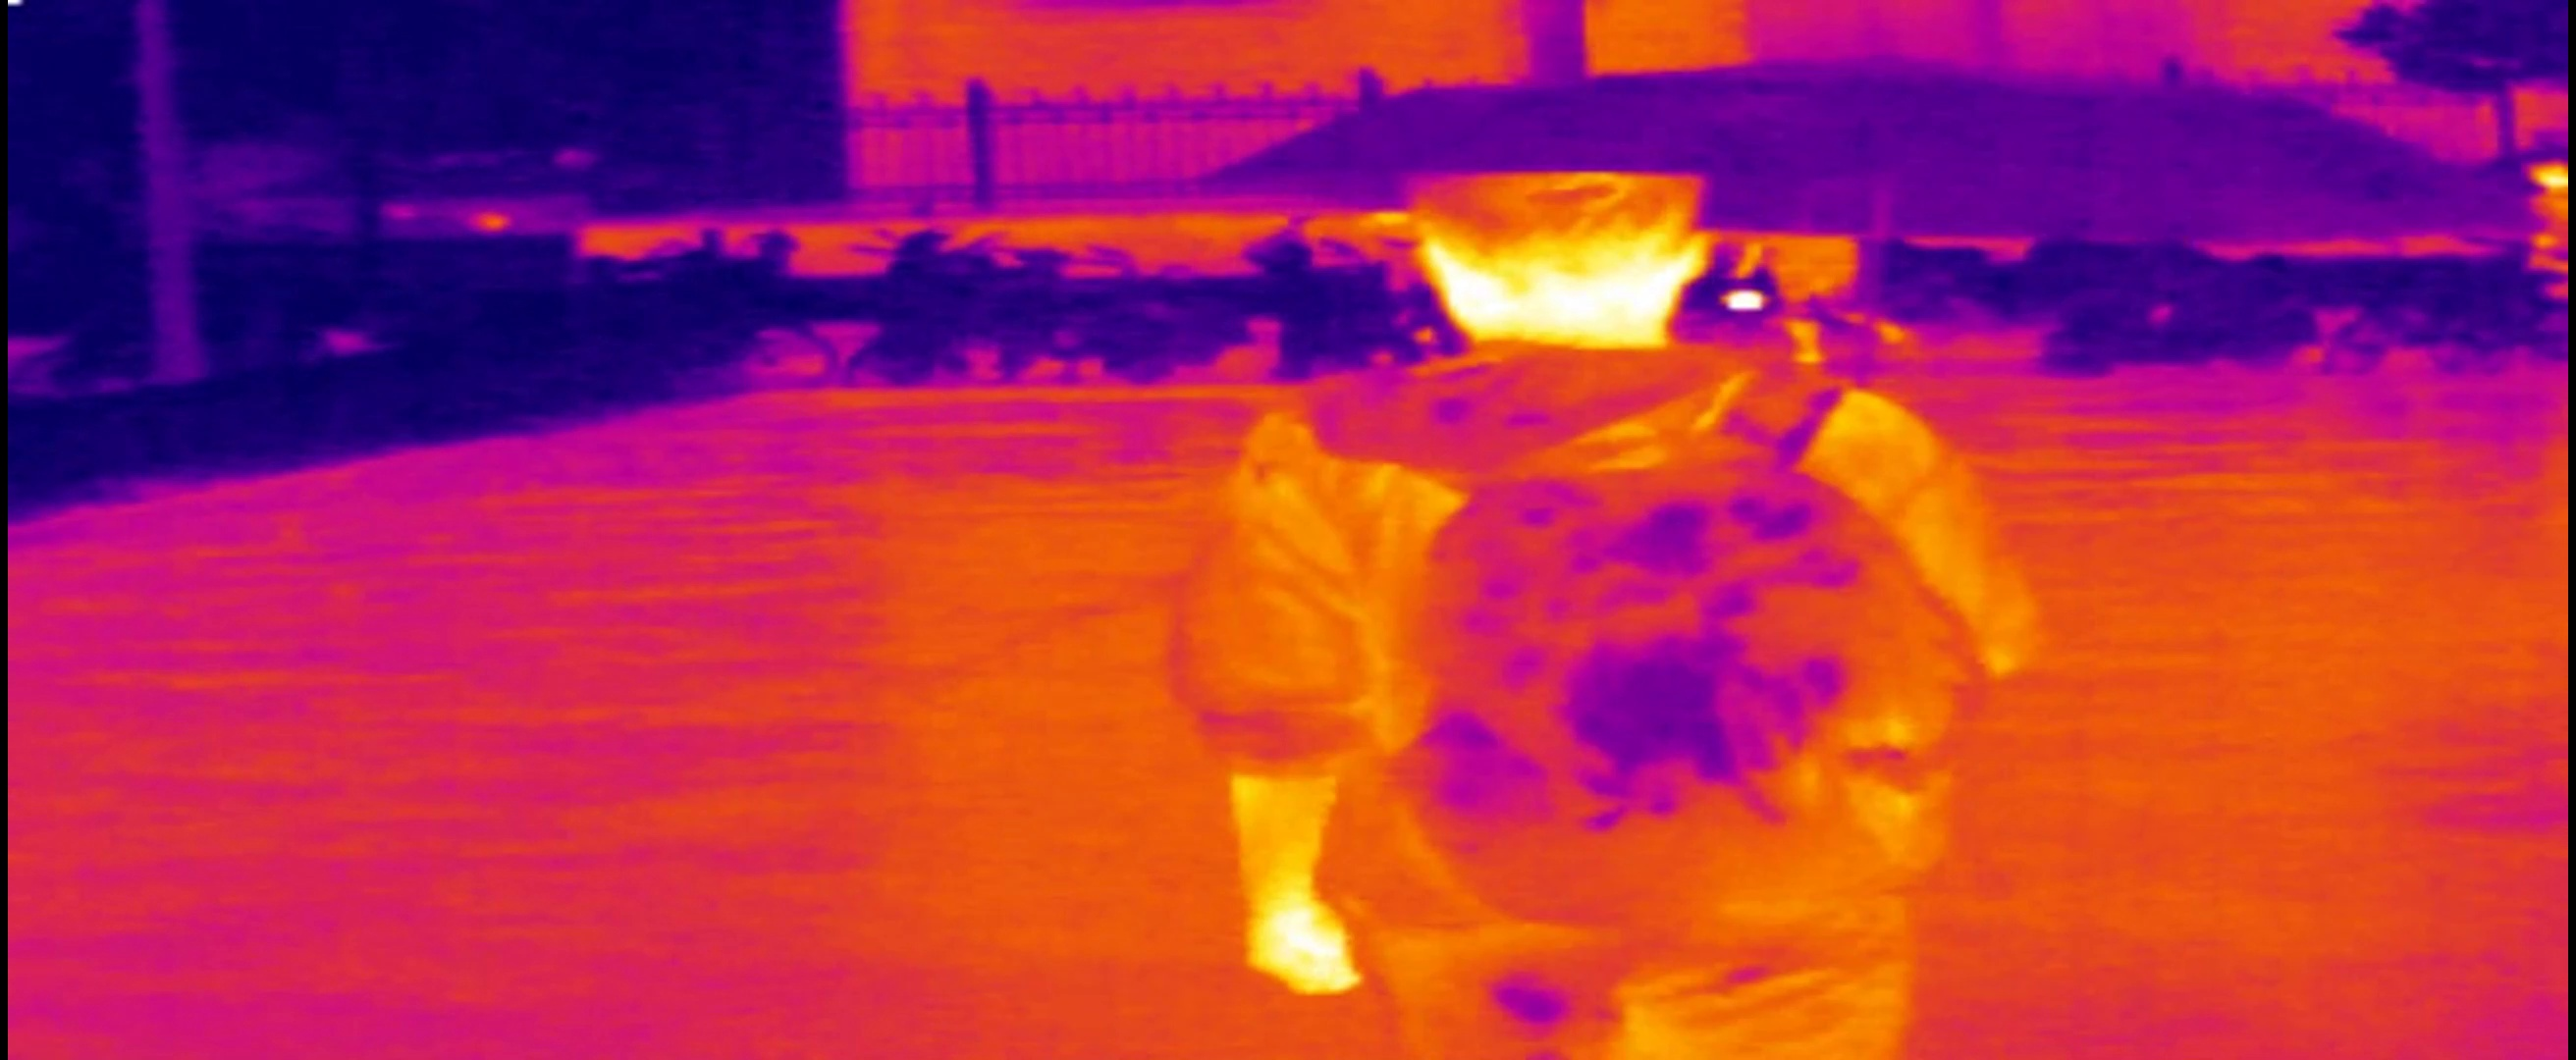person: (1198, 172, 2044, 1060), (1725, 233, 1918, 370), (2522, 161, 2572, 282)
